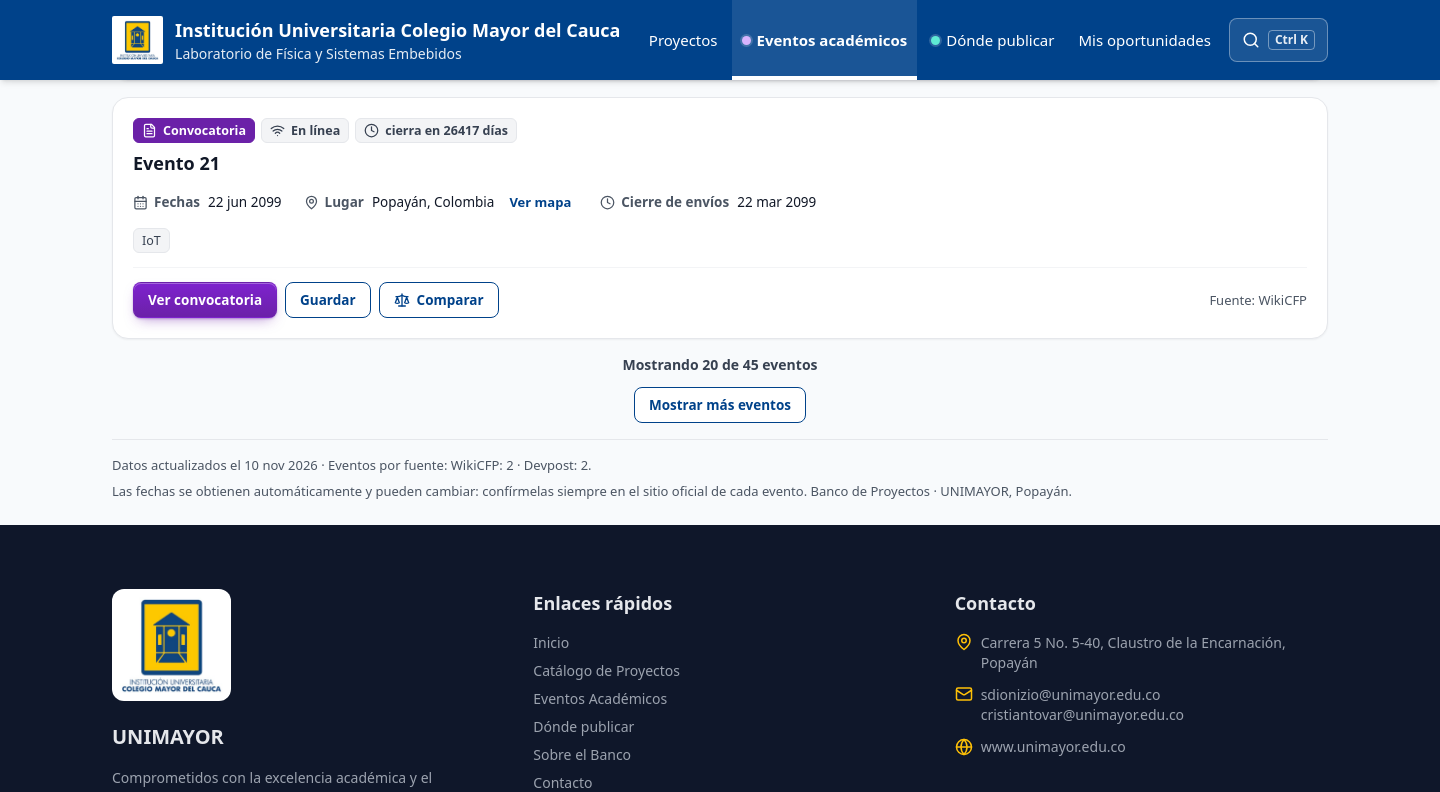
/eventos: show more › «Mostrar más eventos» adds 20 each time, keeps the order and hides when everything is shown
(page scrolled)
Click the button "Mostrar más eventos" at (720, 405), box [634, 387, 806, 423]
(page scrolled)
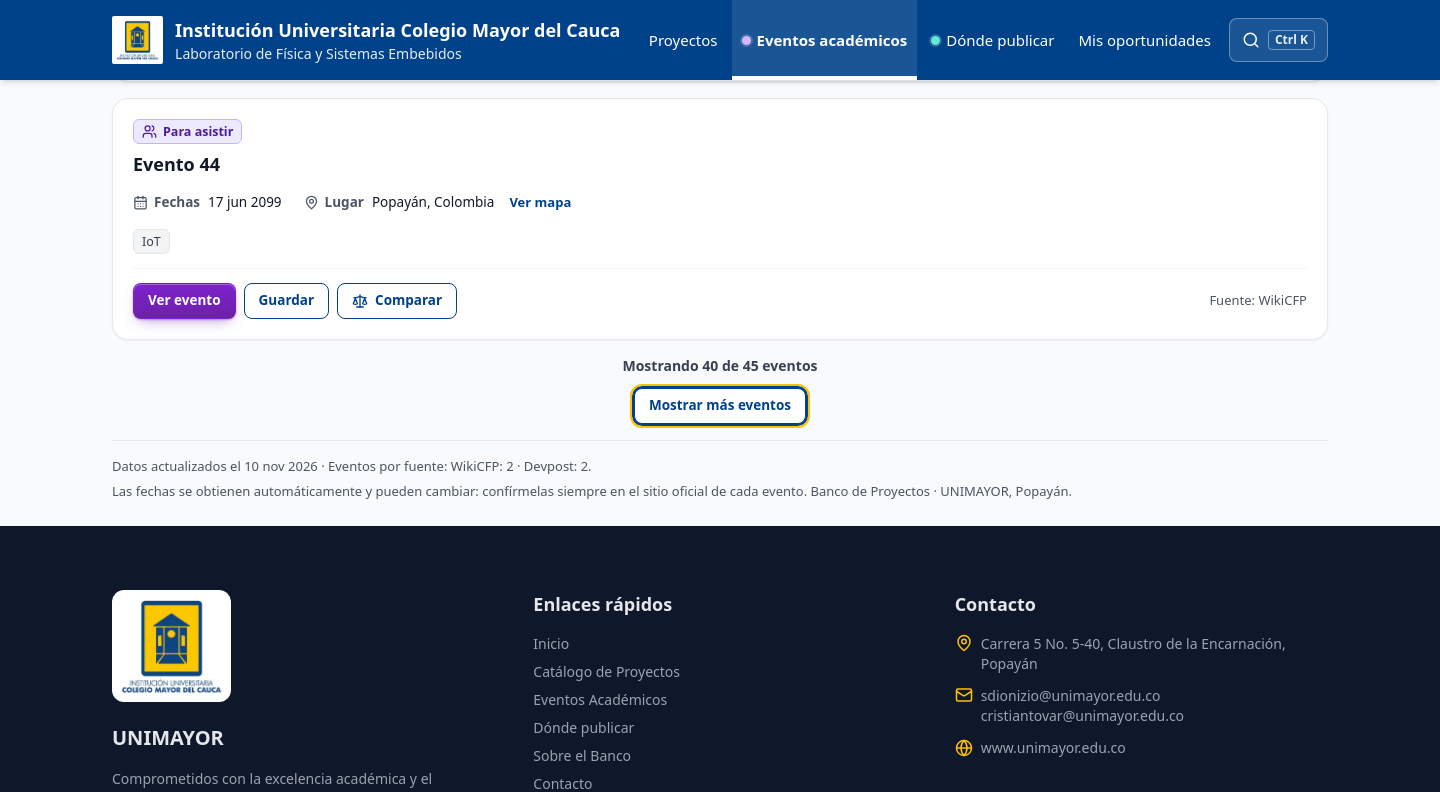
Result: the text "Mostrando 40 de 45 eventos" is shown at [622, 356, 818, 376]
Click the button "Mostrar más eventos" at (720, 406), box [634, 388, 806, 424]
(page scrolled)
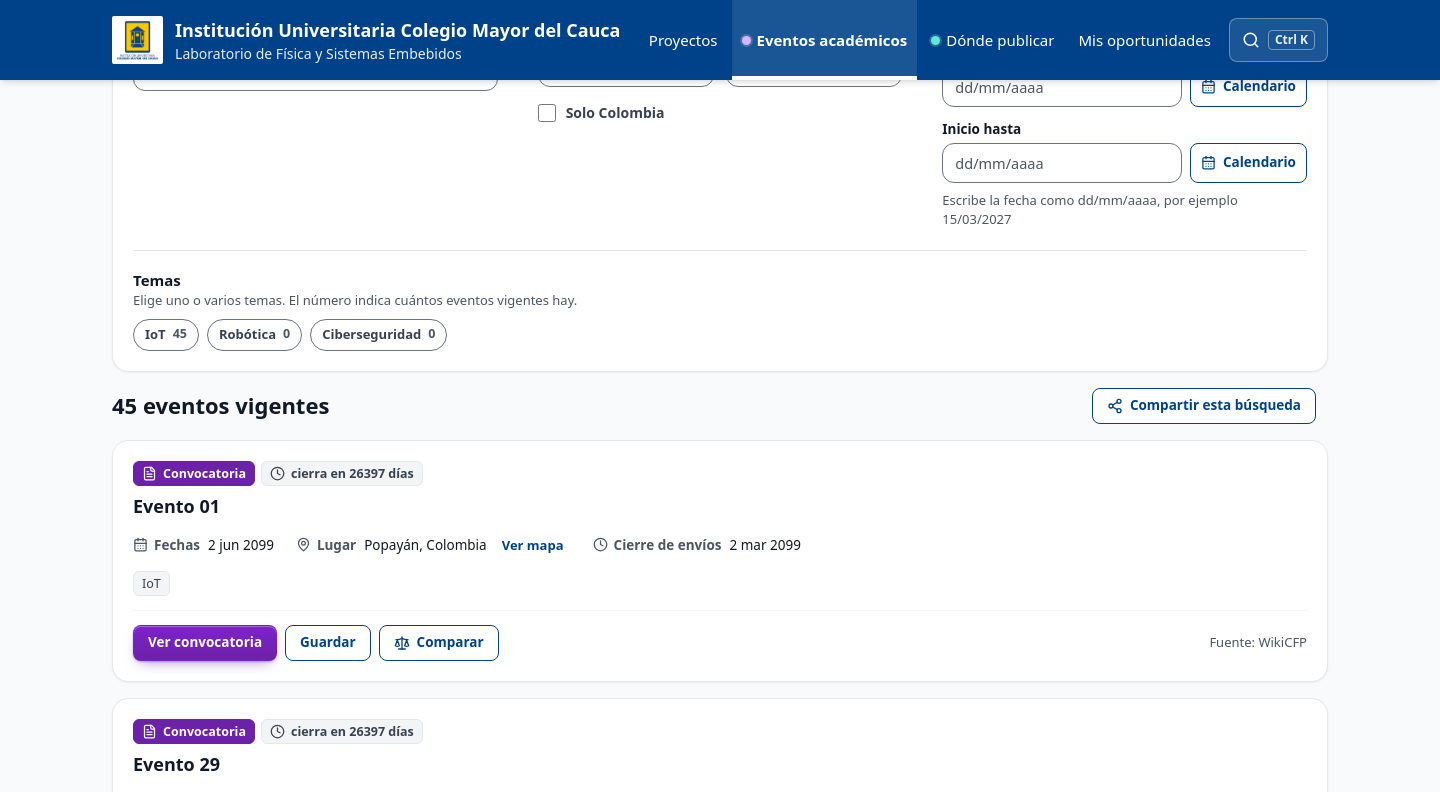
Expected: the heading "45 eventos vigentes" is shown, [112, 392, 329, 420]
Result: the button "Mostrar más eventos" is gone
